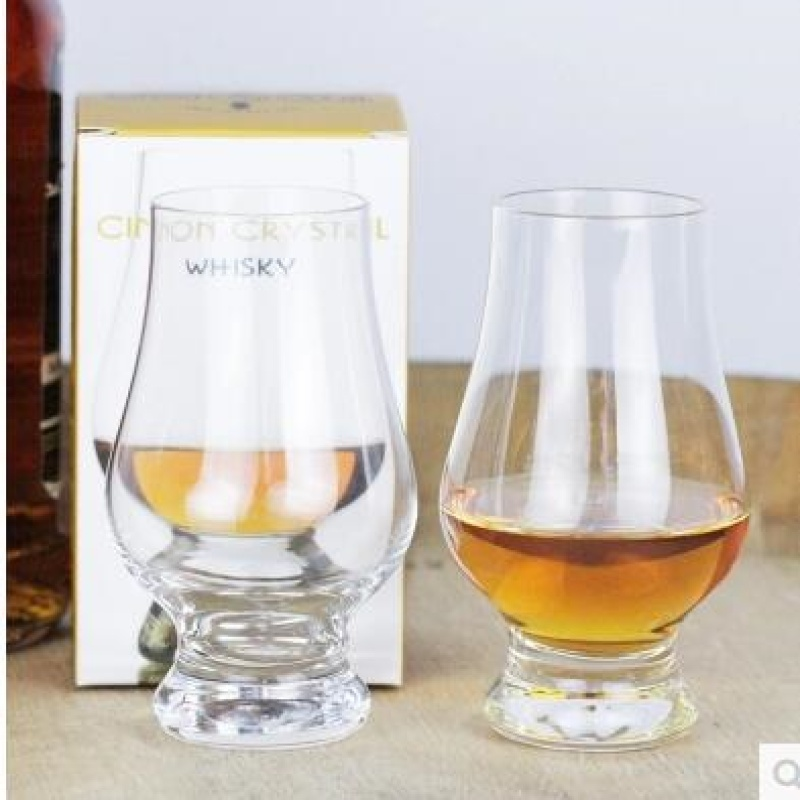whiskey: (467, 187, 753, 742)
